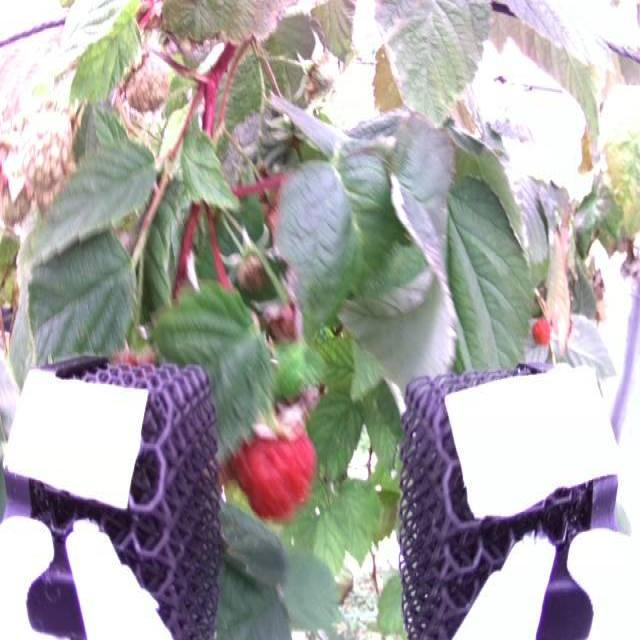Riped berries: (237, 414, 324, 520), (531, 315, 556, 349)
